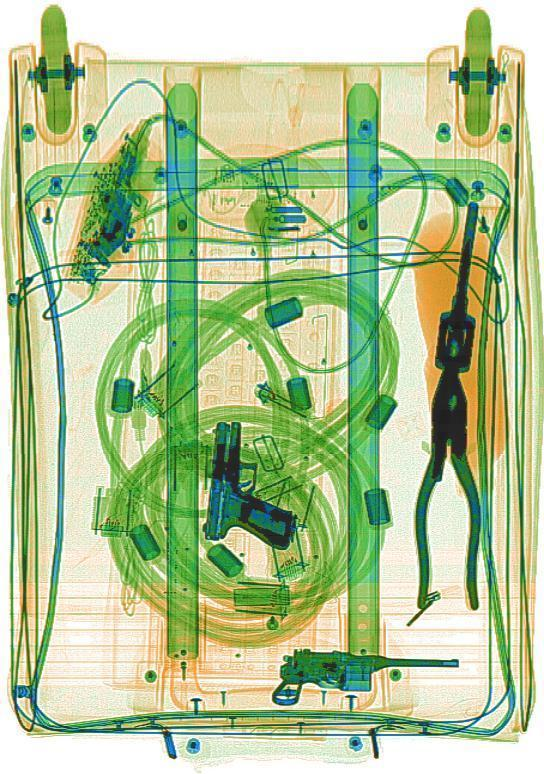Gun: (202, 414, 303, 551), (269, 644, 455, 717)
Pliers: (412, 367, 482, 609)
